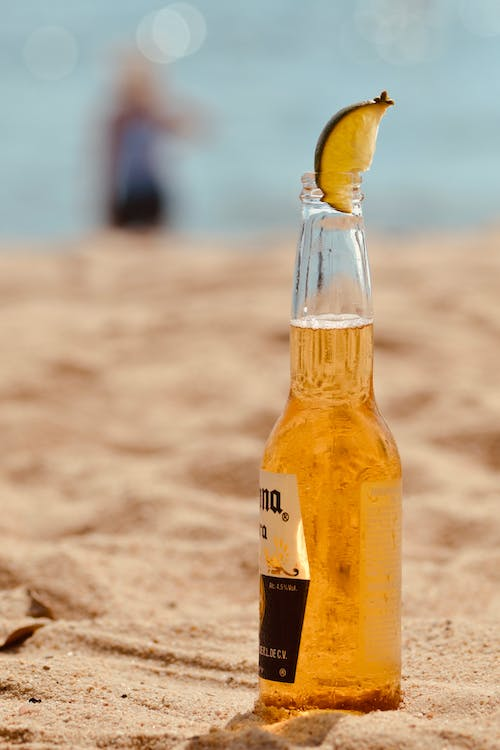alcohol: (255, 171, 404, 714)
